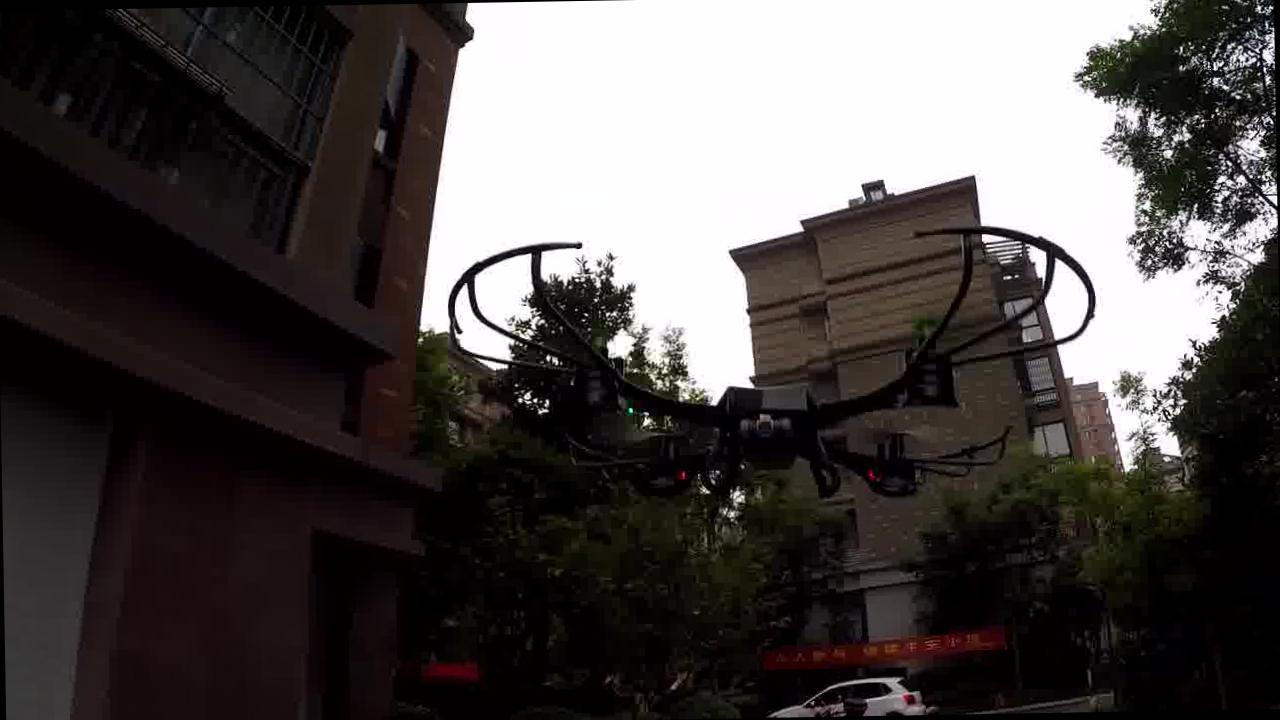drone: (413, 205, 1095, 541)
